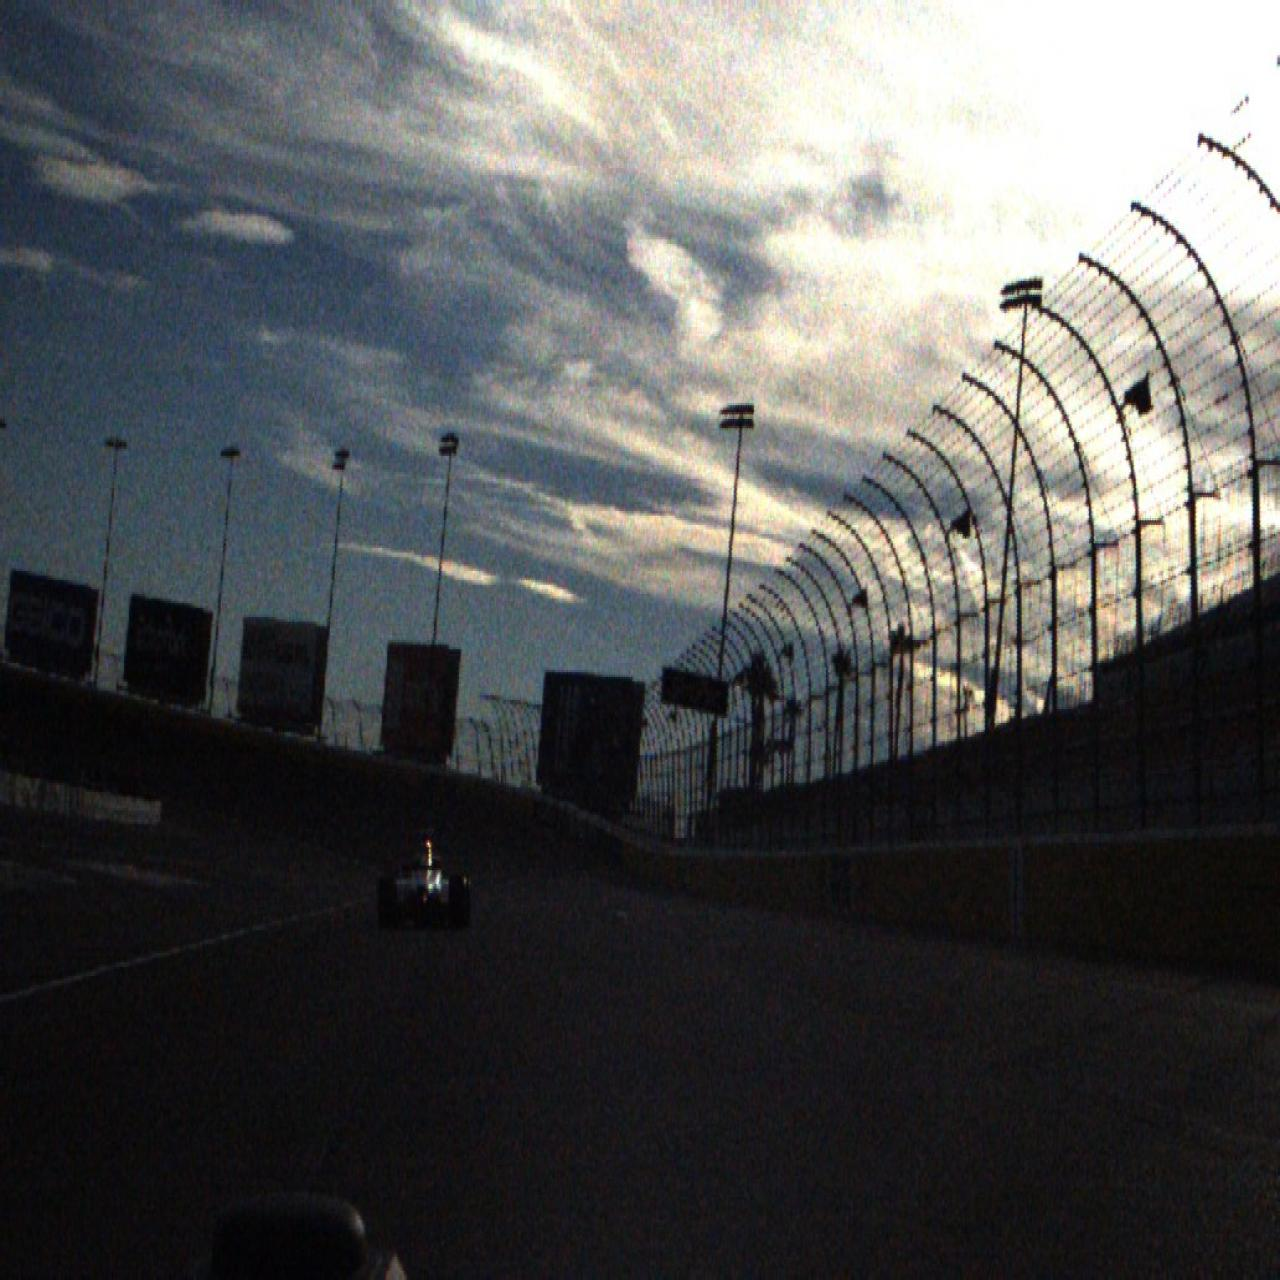AV: (377, 828, 471, 935)
Wheel: (448, 873, 467, 935), (377, 874, 396, 935)
